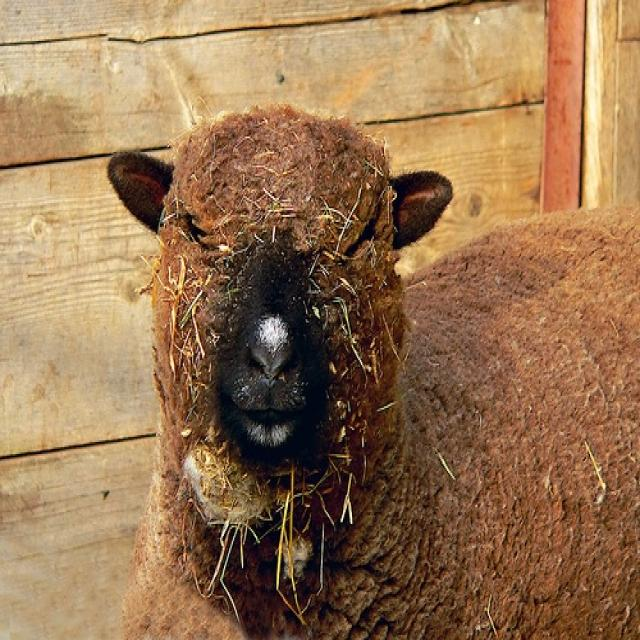sheep: (100, 104, 639, 638)
